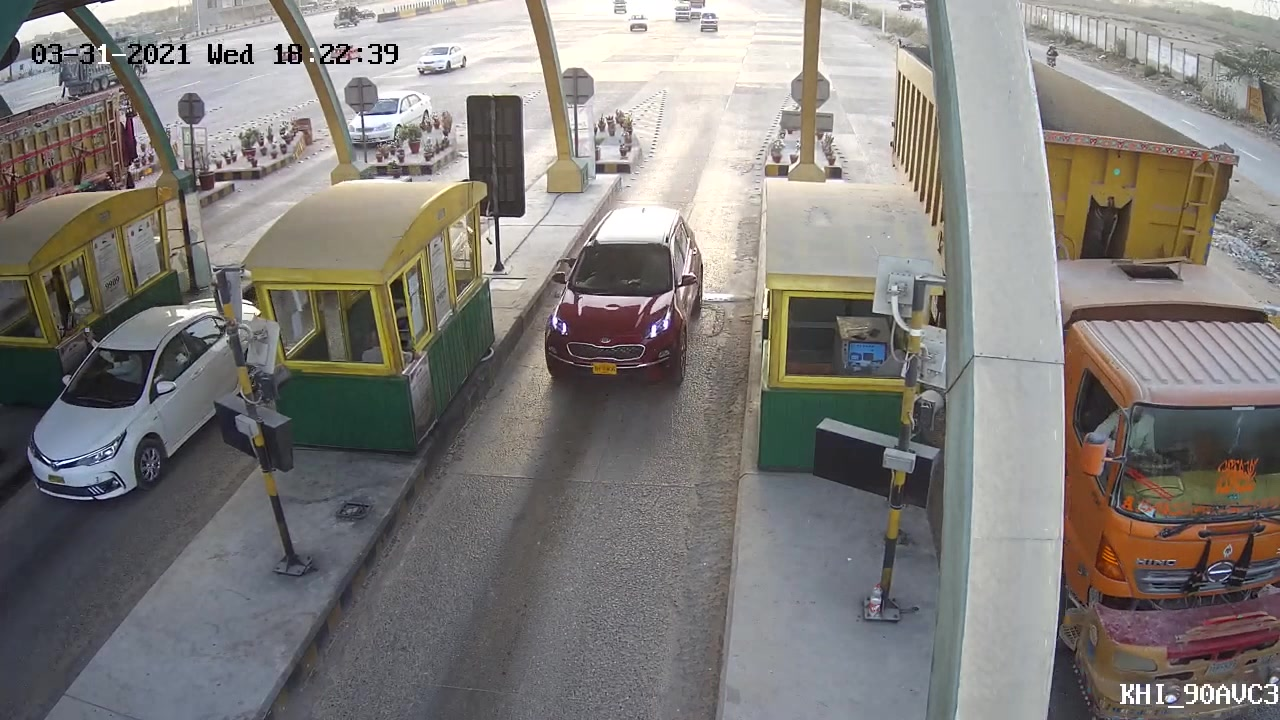F1: (535, 201, 711, 386)
